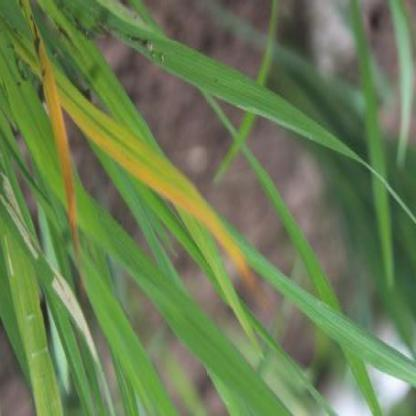Tungro: (44, 54, 262, 306), (11, 1, 78, 281)
